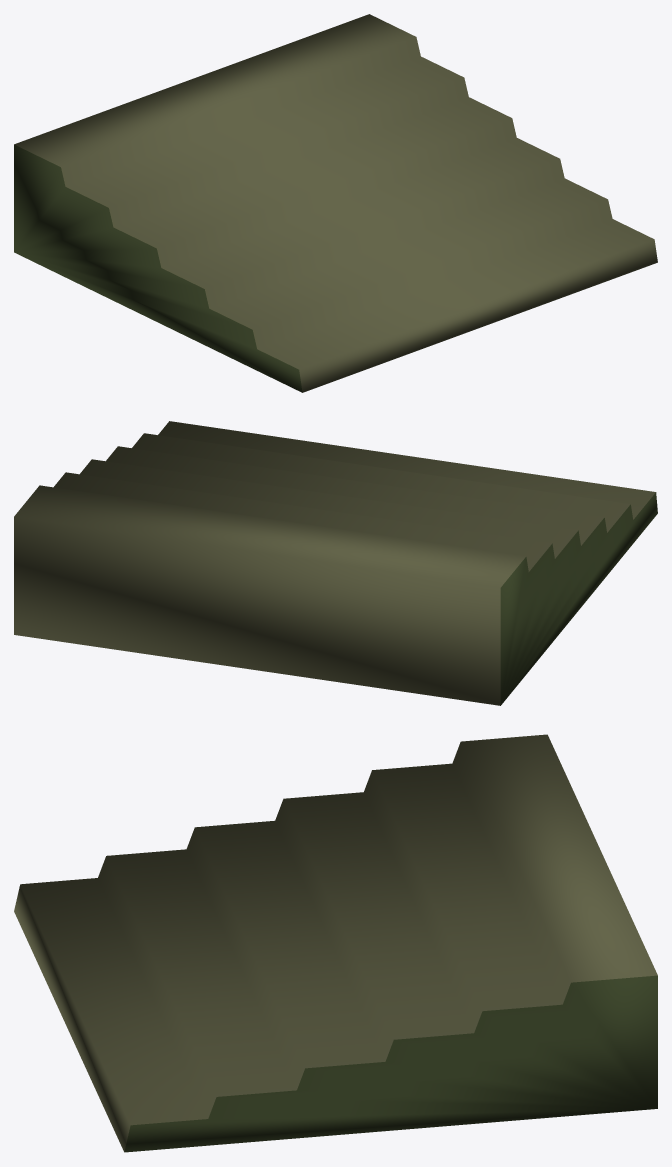
Rendered from huntercabinstairs.fbx.
3 views of the same model, one above another, from view 1: azimuth 30°, elevation 25°; view 2: azimuth 150°, elevation 25°; view 3: azimuth 270°, elevation 25° (orthographic). The views are drawn at different scales.
Visible parts, largest first — view 1: HCStairs; view 2: HCStairs; view 3: HCStairs.
Part boxes in pixels (<box>): HCStairs: <box>14,14,657,392</box>; HCStairs: <box>14,421,657,705</box>; HCStairs: <box>14,734,657,1152</box>.
Size of what is drawn, in the model's own units: 5.36 by 1.17 by 5.12.
